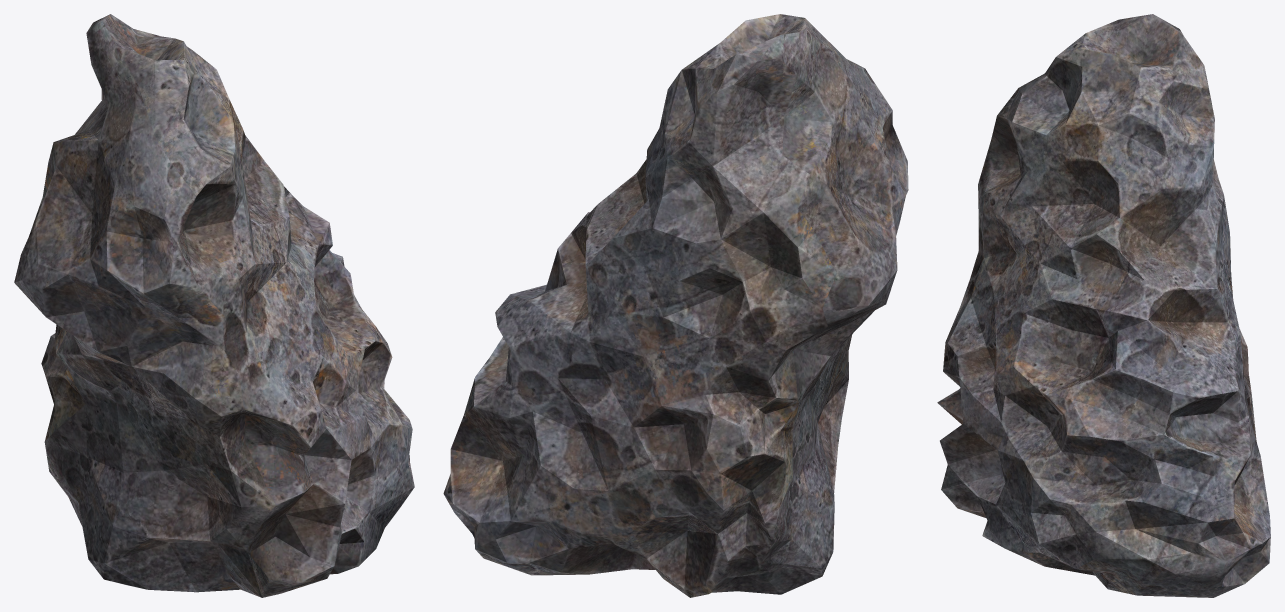
File: bg_chs_diseases_rock01_sm_artree.FBX
The picture shows the model from 3 angles, left to right: view 1: azimuth 30°, elevation 25°; view 2: azimuth 150°, elevation 25°; view 3: azimuth 270°, elevation 25°; orthographic projection. The views are drawn at different scales.
Parts seen in each view (by area): view 1: bg_chs_diseases_rock01_sm_artree; view 2: bg_chs_diseases_rock01_sm_artree; view 3: bg_chs_diseases_rock01_sm_artree.
Part boxes in pixels (x1,y1,x2,y2): bg_chs_diseases_rock01_sm_artree: (14, 14, 414, 597); bg_chs_diseases_rock01_sm_artree: (443, 14, 908, 597); bg_chs_diseases_rock01_sm_artree: (937, 14, 1270, 597).
Size of the model in its own units: 347 by 487 by 299.
